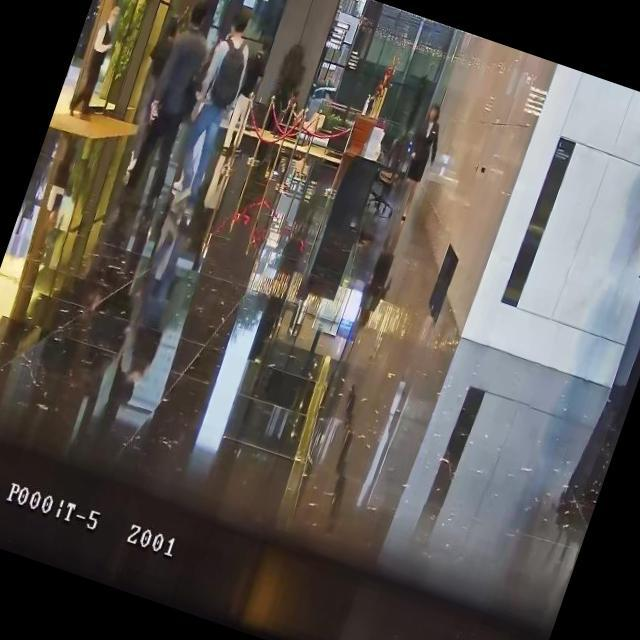person: (118, 0, 228, 207), (160, 1, 266, 210), (106, 10, 188, 185), (388, 100, 452, 226), (218, 34, 278, 158), (68, 0, 126, 120), (280, 89, 303, 127)
